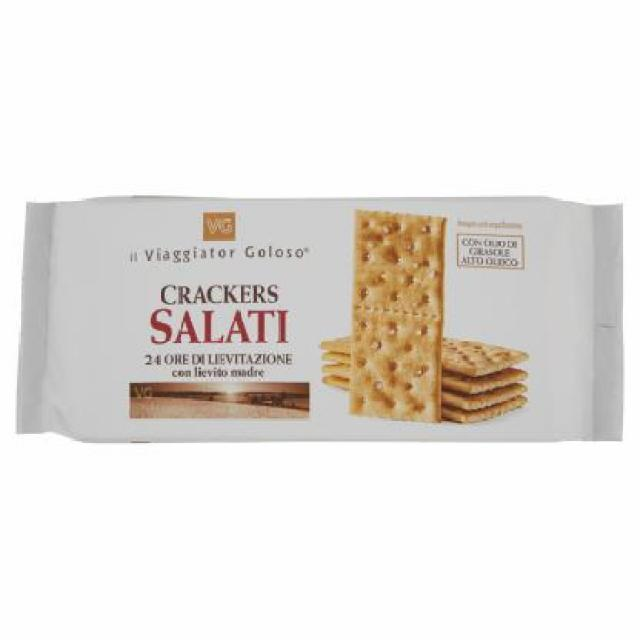Cracker: (10, 192, 633, 448)
